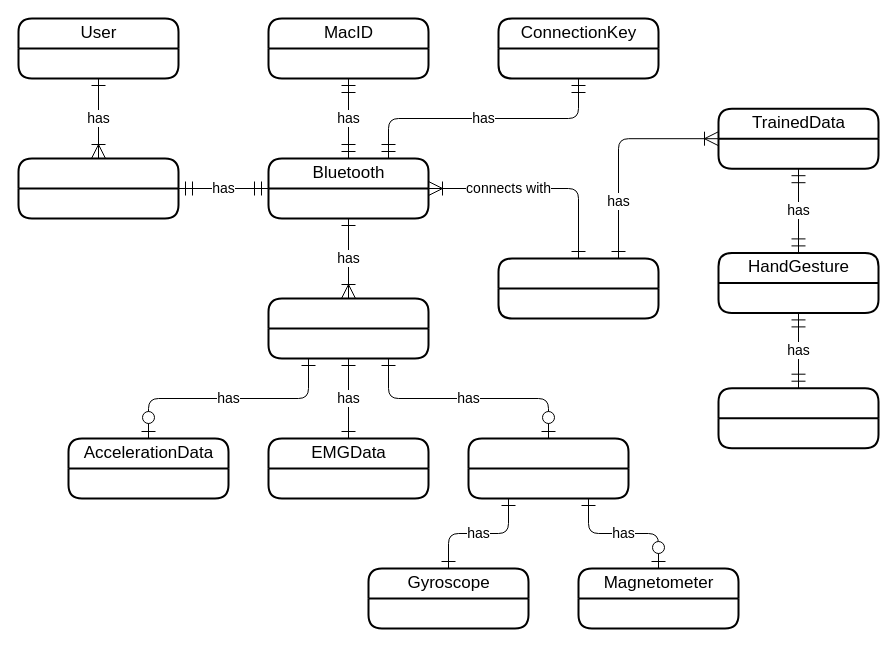
Some shapes in this 896 by 646 pixel diagram are drawn without their labels. Each missing label, with the centre of its shape:
"Application" goes at (578,288).
"Armband" goes at (98,188).
"DataPackage" goes at (348,328).
"Function" goes at (798,418).
"OrientationData" goes at (548,468).
